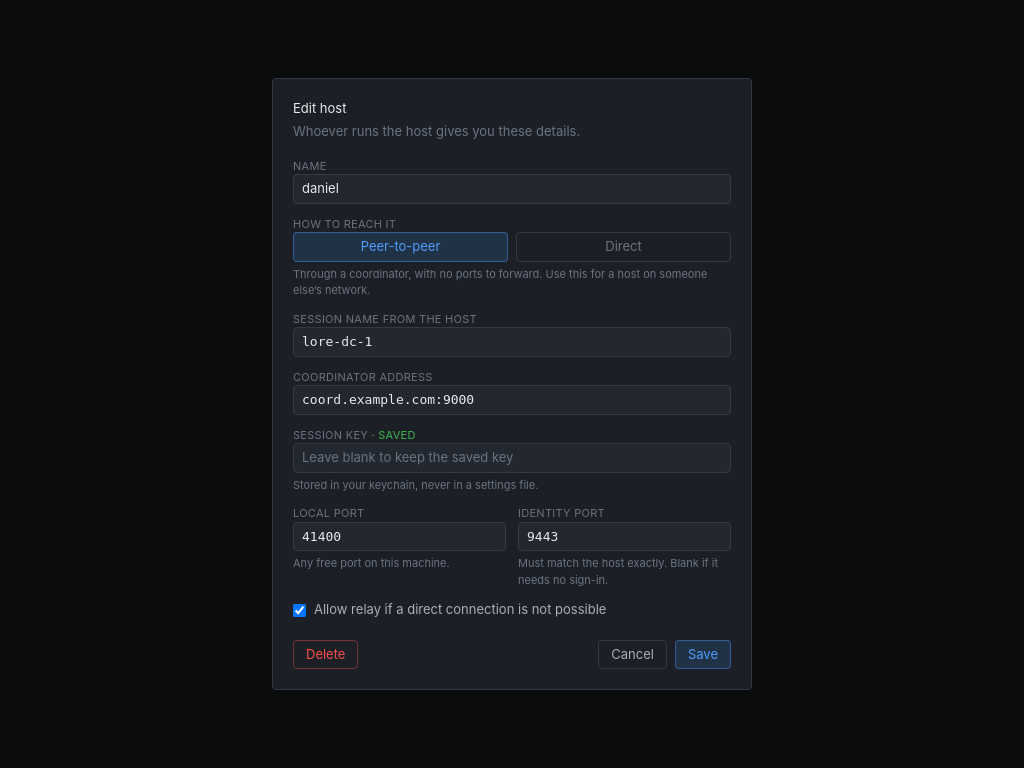
Scenario: SessionForm deletion › asks twice before deleting
Click the button "Delete". click: (326, 655)
box: [293,640,358,669]
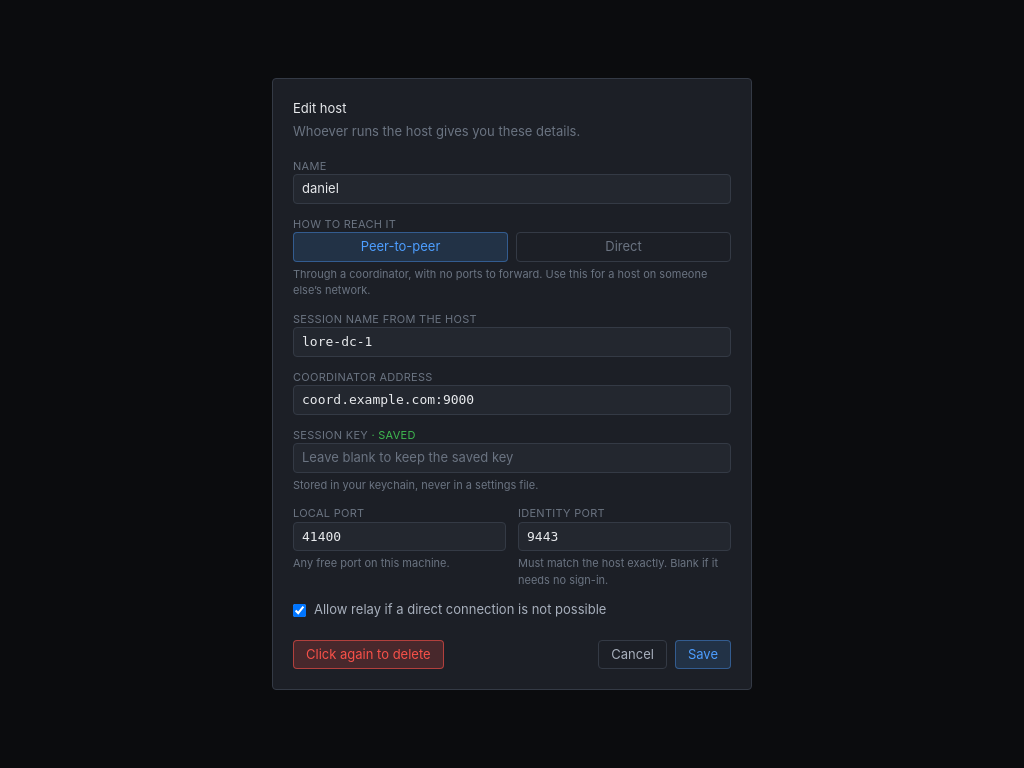
Expected: the button "Click again to delete" is shown, [293,640,444,669]
